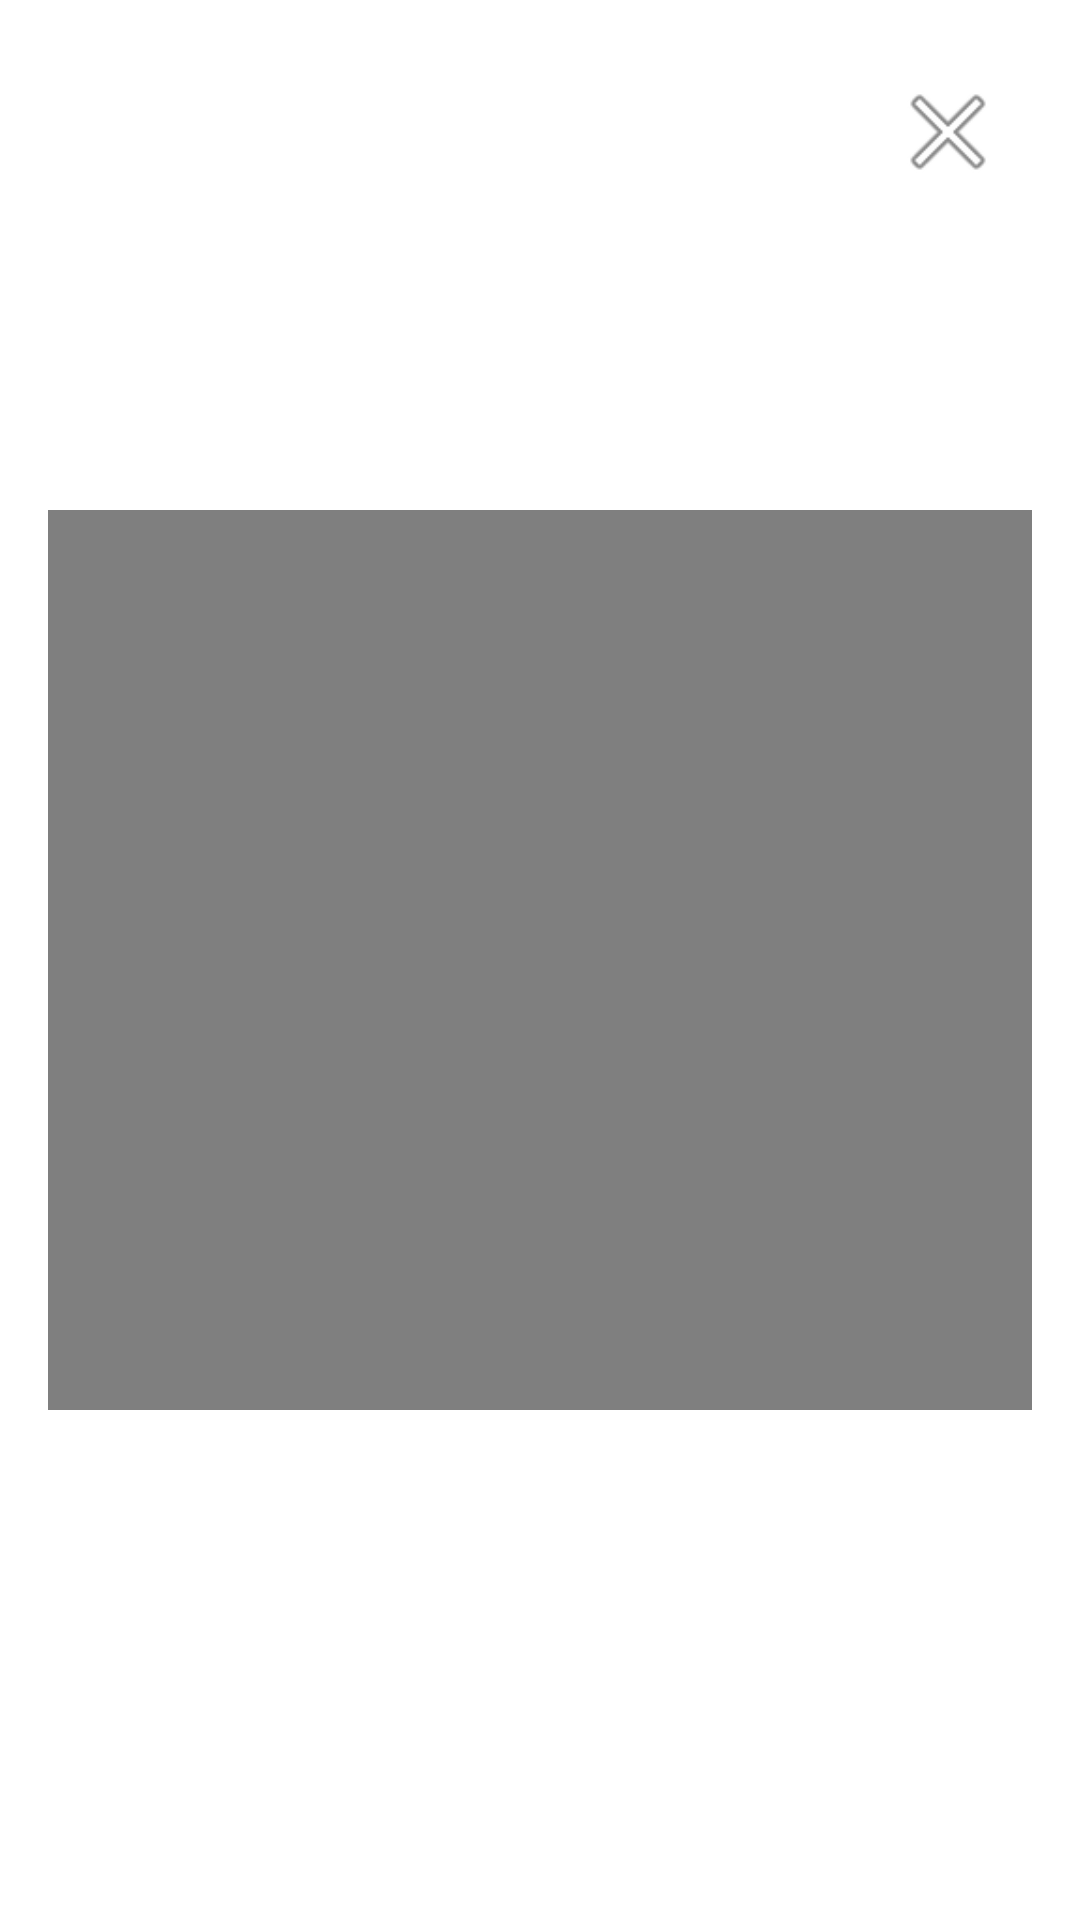

Icons on this 1080×1920 Android screen, each with its box as bbox(x1, y1, x2, y2):
close clear cancel: bbox(910, 94, 986, 170)
